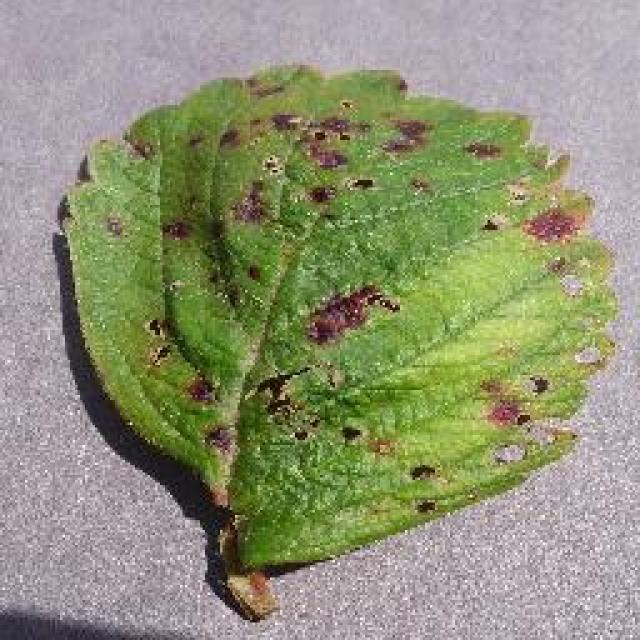Strawberry leaf scorch: (163, 116, 525, 492)
